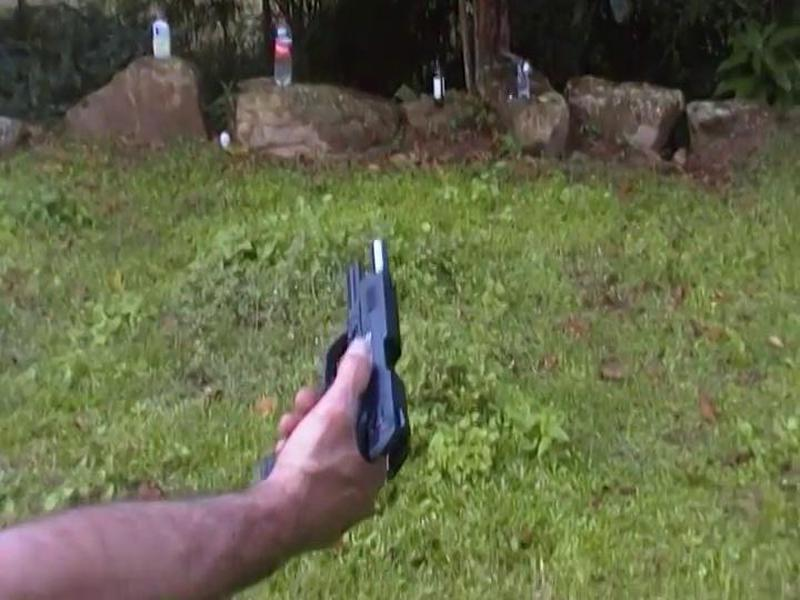Pistola: (265, 238, 405, 491)
